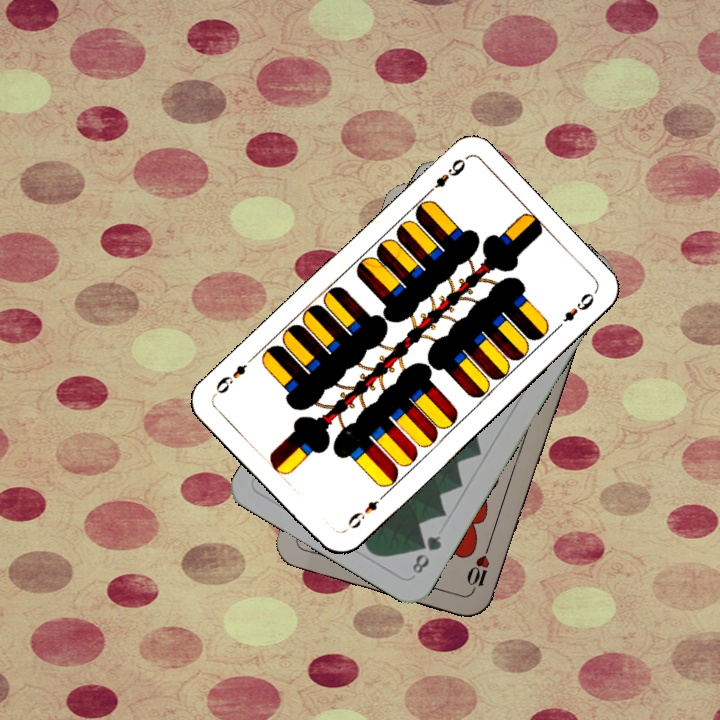E9: (421, 154, 468, 199), (343, 490, 388, 532)
G8: (408, 531, 444, 577)
H10: (463, 539, 493, 597)
